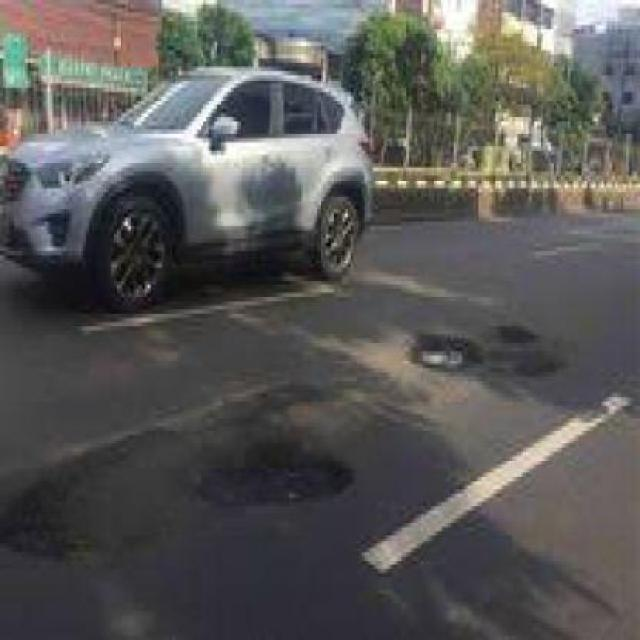pothole: (186, 435, 357, 510), (398, 318, 484, 373)
